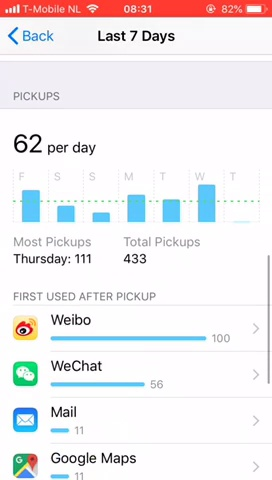pick_app: (9, 311, 245, 351), (7, 358, 179, 395), (6, 450, 158, 479), (7, 405, 117, 437)
pick_over: (12, 233, 227, 275)
week: (91, 27, 187, 46)
